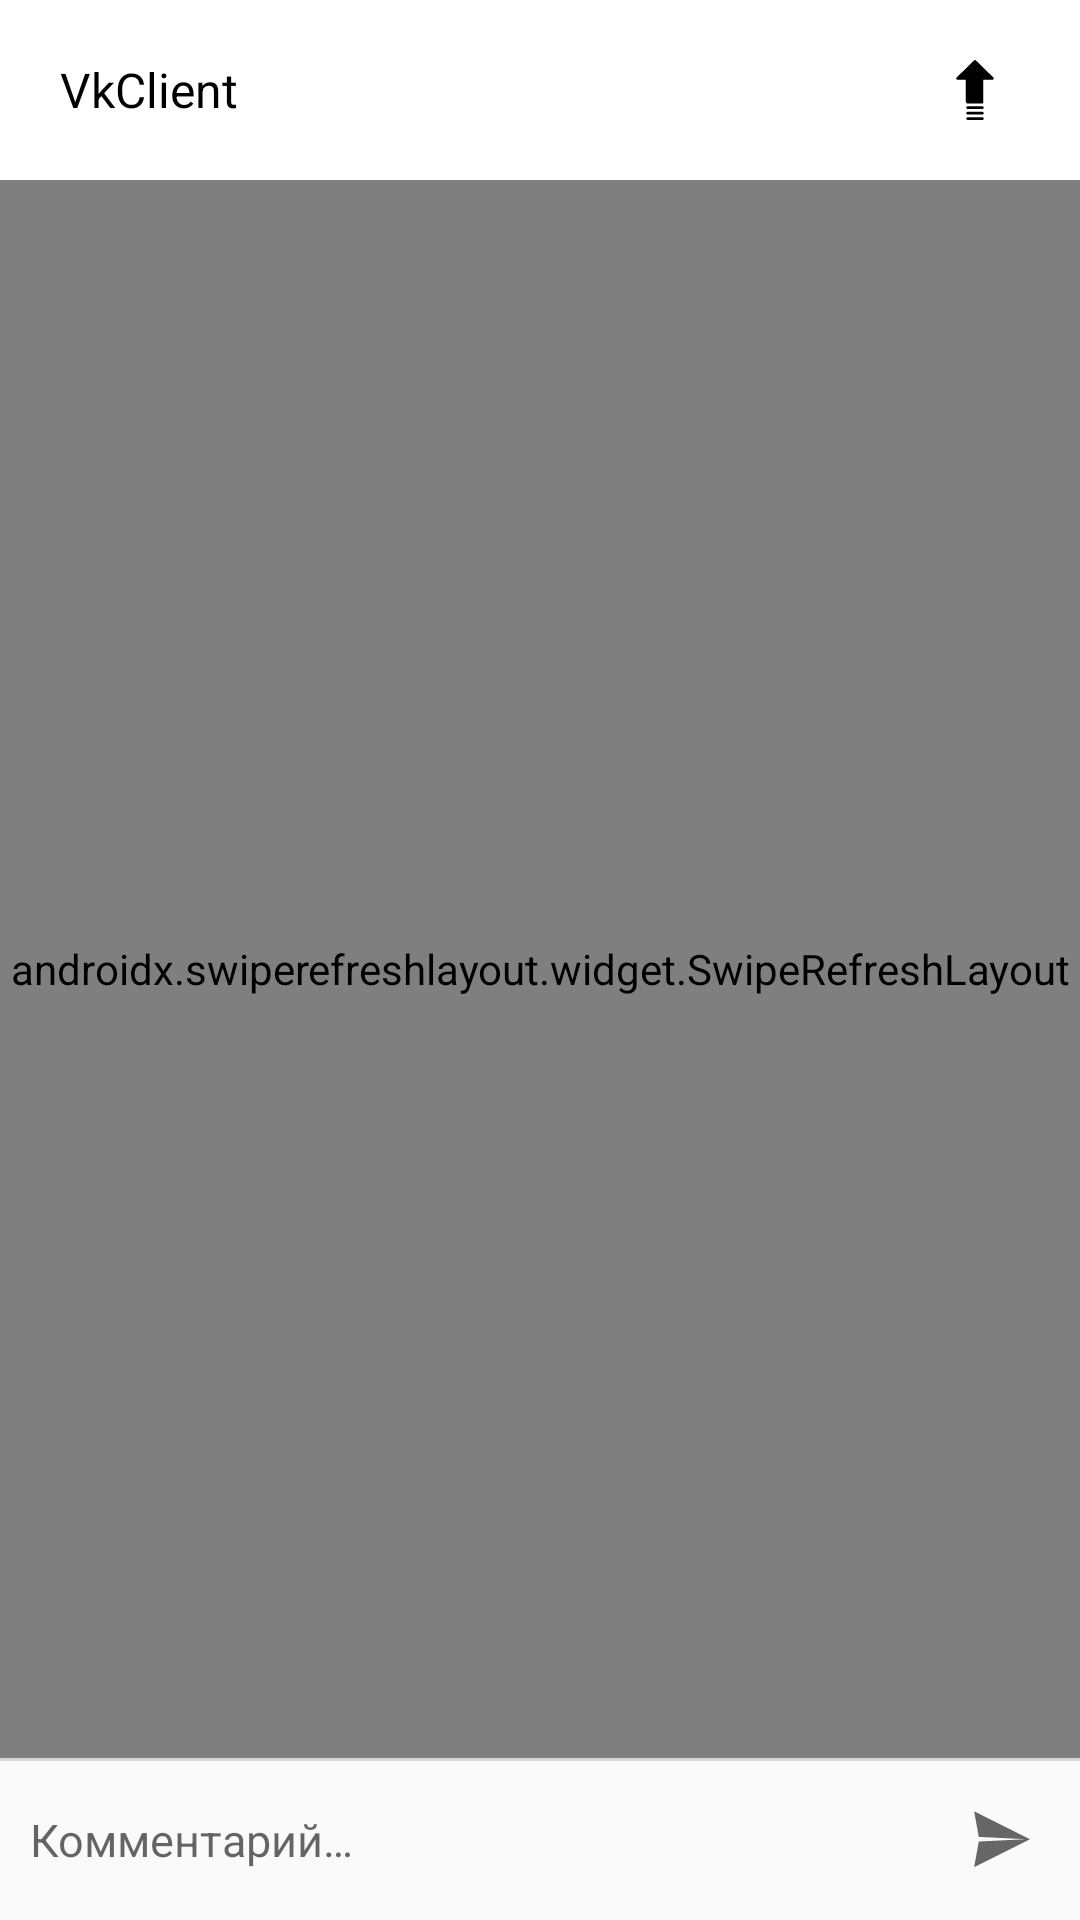

Locate icon controls on the screen. Image size 1080 × 1920, boxes as Rect(x1, y1, x2, y2).
send: Rect(974, 1811, 1030, 1867)
up arrow: Rect(956, 60, 994, 120)
